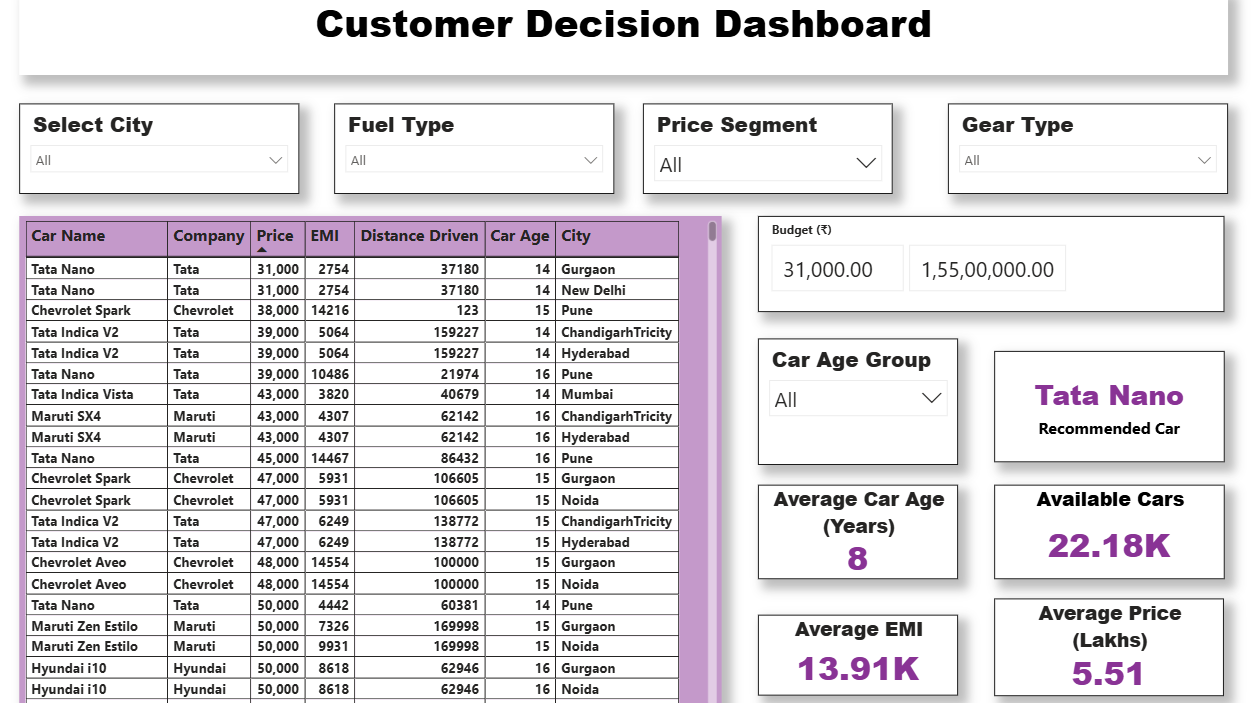

Layout of this report page (visuals, bound fields, positions):
{"tool":"powerbi","page":{"name":"Page 3","canvas":[1280,720],"ordinal":2},"visuals":[{"type":"slicer","fields":{"Values":["All_Cities_Cars24.City"]},"box":[31.6,112.5,279.9,90.6],"z":0},{"type":"slicer","fields":{"Values":["All_Cities_Cars24.Fuel Type"]},"box":[345.8,112.5,279.9,90.6],"z":1000},{"type":"slicer","fields":{"Values":["All_Cities_Cars24.Gear Type"]},"box":[960.6,112.5,279.9,90.6],"z":2000},{"type":"slicer","fields":{"Values":["All_Cities_Cars24.Price"]},"box":[769.8,225,466.6,96.1],"z":3000},{"type":"card","title":"Available Cars","fields":{"Values":["CountNonNull(All_Cities_Cars24.Car Name)"]},"box":[1005.8,494,230.5,94.7],"z":4000},{"type":"card","title":"Average Price (Lakhs)","fields":{"Values":["All_Cities_Cars24.Avg Price (Lakhs)"]},"box":[1006.4,607.7,229.9,97.8],"z":5000},{"type":"card","title":"Average EMI","fields":{"Values":["Avg(All_Cities_Cars24.EMI)"]},"box":[769.8,624.4,200.3,81],"z":6000},{"type":"card","title":"Average Car Age (Years)","fields":{"Values":["Avg(All_Cities_Cars24.Car Age)"]},"box":[769.8,494,200.3,94.7],"z":7000},{"type":"tableEx","fields":{"Values":["All_Cities_Cars24.Car Name","All_Cities_Cars24.Company","All_Cities_Cars24.Price","All_Cities_Cars24.EMI","All_Cities_Cars24.Distance Driven","All_Cities_Cars24.Car Age","All_Cities_Cars24.City"]},"box":[31.6,225,702.6,495.4],"z":8000},{"type":"card","fields":{"Values":["All_Cities_Cars24.Recommended Car"]},"box":[1005.8,359.5,230.5,111.1],"z":9000},{"type":"slicer","fields":{"Values":["All_Cities_Cars24.Price Segment"]},"box":[654.5,112.5,249.7,90.6],"z":10000},{"type":"slicer","fields":{"Values":["All_Cities_Cars24.Car Age Group"]},"box":[769.8,347.2,200.3,126.2],"z":11000},{"type":"textbox","box":[31.6,0,1208.9,83.7],"z":12000}]}

Visuals, with their boxes in screenshot pixels (x1, y1, x2, y2), scaled from the page's 1280x720 canvas onto the 1251x703 screenshot:
slicer - All_Cities_Cars24.City: 31:110:304:198
slicer - All_Cities_Cars24.Fuel Type: 338:110:612:198
slicer - All_Cities_Cars24.Gear Type: 939:110:1212:198
slicer - All_Cities_Cars24.Price: 752:220:1208:314
"Available Cars" card: 983:482:1208:575
"Average Price (Lakhs)" card: 984:593:1208:689
"Average EMI" card: 752:610:948:689
"Average Car Age (Years)" card: 752:482:948:575
tableEx - All_Cities_Cars24.Car Name x All_Cities_Cars24.Company: 31:220:718:702
card - All_Cities_Cars24.Recommended Car: 983:351:1208:459
slicer - All_Cities_Cars24.Price Segment: 640:110:884:198
slicer - All_Cities_Cars24.Car Age Group: 752:339:948:462
textbox: 31:0:1212:82
